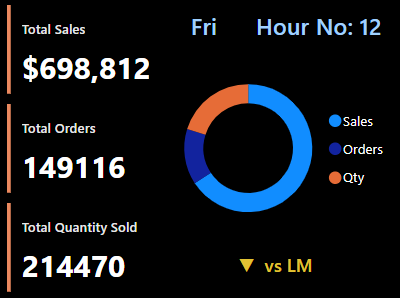

Layout of this report page (visuals, bound fields, positions):
{"tool":"powerbi","page":{"name":" Tool Tip-Day & Hour Chart","canvas":[320,240],"ordinal":2},"visuals":[{"type":"cardVisual","fields":{"Data":["Key Measures.Total Sales","Key Measures.Total Orders","Key Measures.Total Quantity Sold"]},"box":[0,0,165,240],"z":0},{"type":"donutChart","fields":{"Y":["Key Measures.Total Sales","Key Measures.Total Orders","Key Measures.Total Quantity Sold"]},"box":[129,48,191,143],"z":1000},{"type":"card","fields":{"Values":["Key Measures.TT For Hour"]},"box":[197,0,115,48],"z":2000},{"type":"card","fields":{"Values":["Key Measures.MoM Growth & Sales Diff"]},"box":[120,191,200,48],"z":3000},{"type":"card","fields":{"Values":["Min(Date Table.Day Name)"]},"box":[105,0,115,48],"z":4000}]}

Visuals, with their boxes in screenshot pixels (x1, y1, x2, y2), scaled from the page's 320x240 canvas onto the 400x298 screenshot:
cardVisual - Key Measures.Total Sales x Key Measures.Total Orders: Rect(0, 0, 206, 297)
donutChart - Key Measures.Total Sales x Key Measures.Total Orders: Rect(161, 60, 399, 237)
card - Key Measures.TT For Hour: Rect(246, 0, 390, 60)
card - Key Measures.MoM Growth & Sales Diff: Rect(150, 237, 399, 297)
card - Min(Date Table.Day Name): Rect(131, 0, 275, 60)
